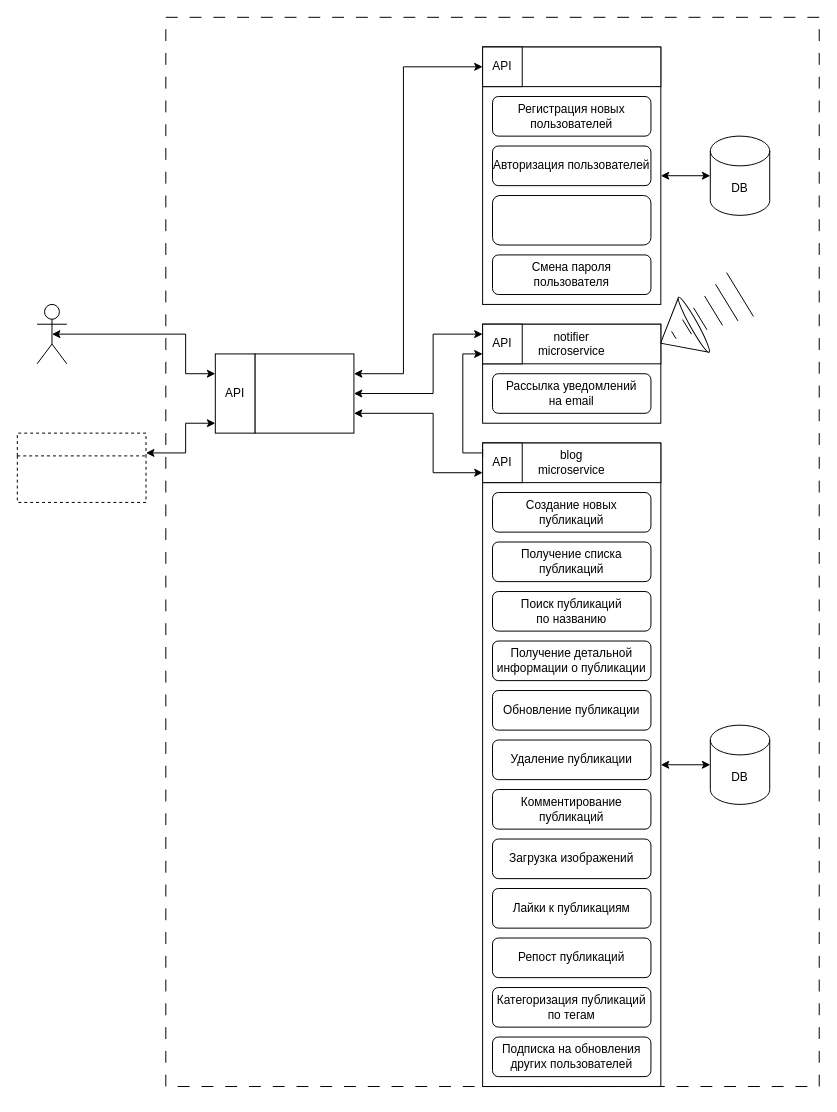
Some shapes in this 837 by 1112 pixel diagram are drawn without their labels. The shapes that lost their labels are listed below. From the top down, each one's box as (x1, y1, x2, y2) in pixels, then its label:
(482, 46, 661, 87): user microservice
(492, 195, 651, 245): Получение детальной информации о пользователе
(36, 303, 67, 364): User client
(254, 353, 354, 433): Backend for Frontend microservice
(16, 432, 146, 502): External service
